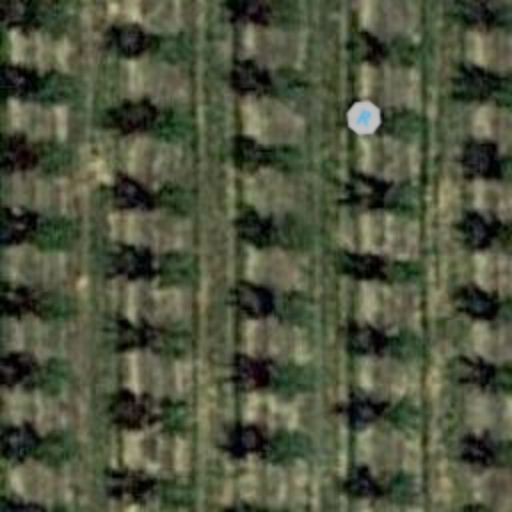octagon: (340, 94, 388, 142)
